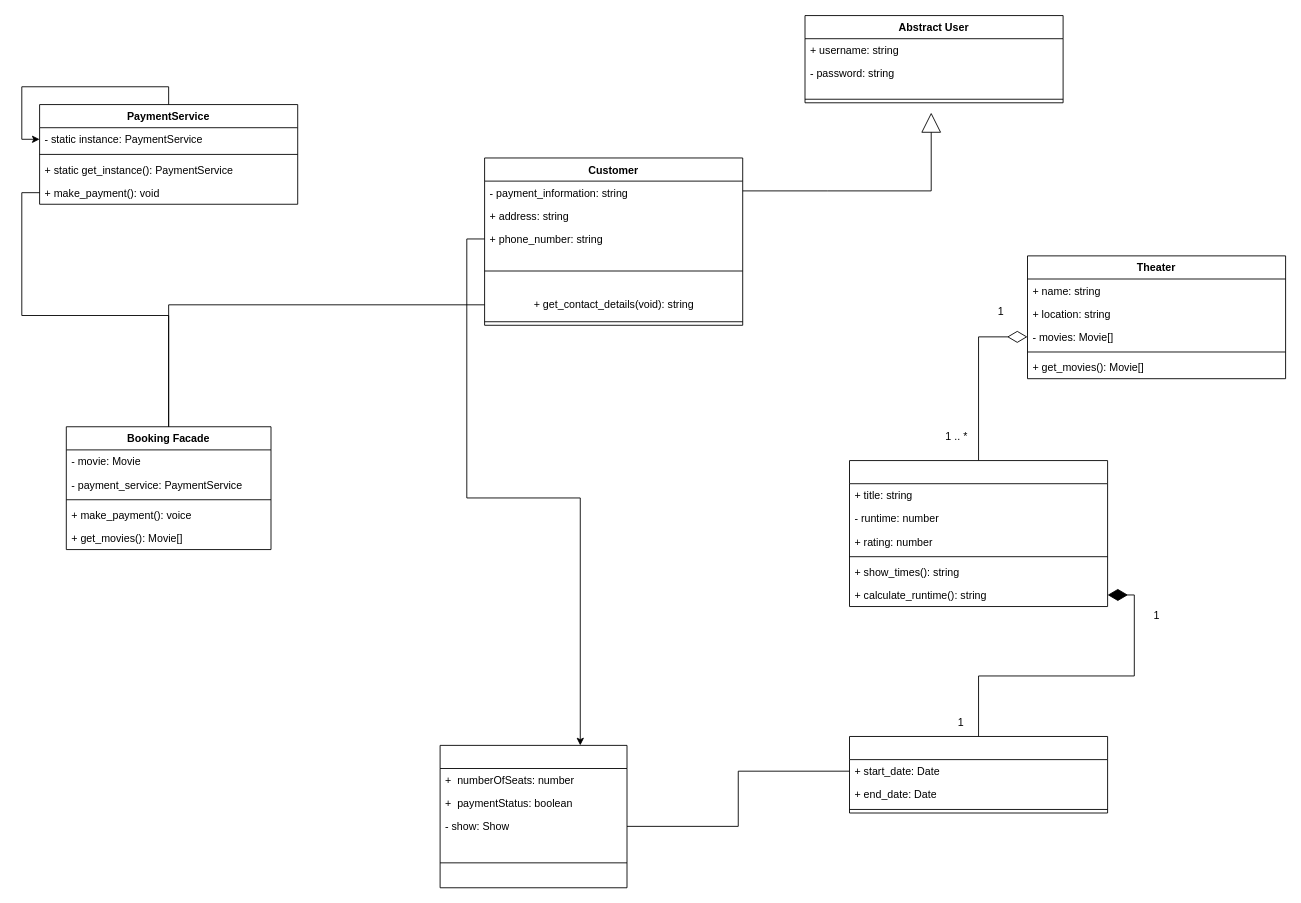
The diagram is 1301 pixels wide and 903 high, and some of its shapes have lost their labels. Each missing label, with the box of its shape:
Booking: (439, 744, 627, 888)
Movie: (849, 460, 1108, 607)
Show: (849, 736, 1108, 813)
